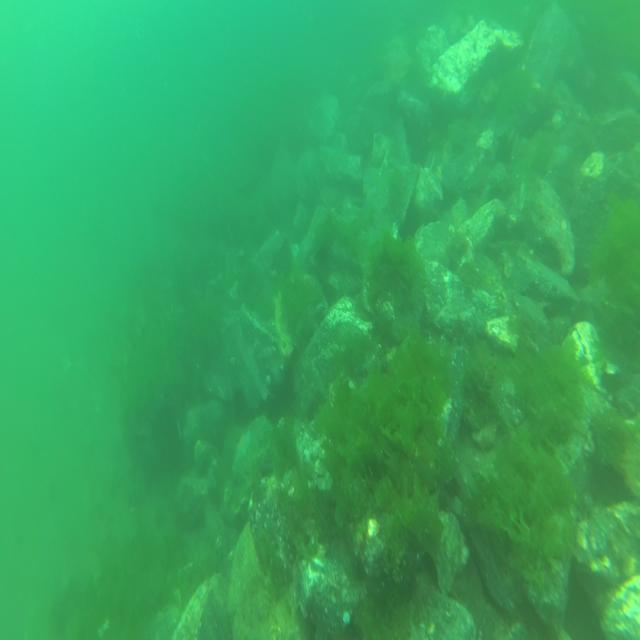echinus: (230, 390, 249, 428)
